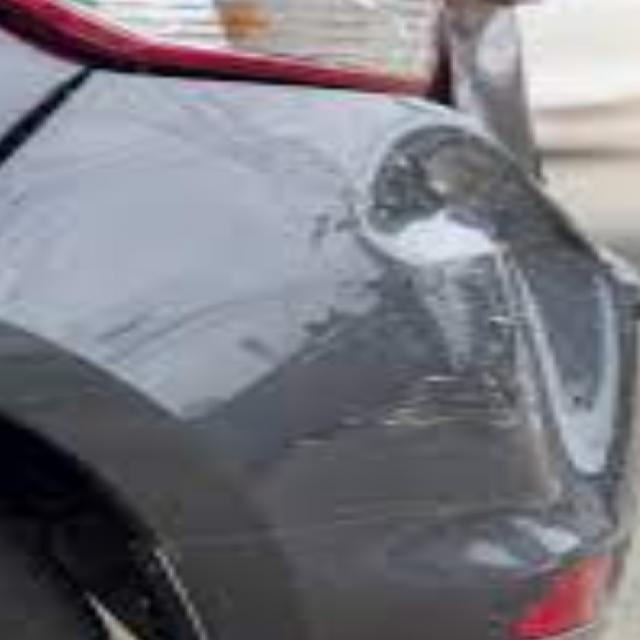dents: (339, 121, 640, 469)
